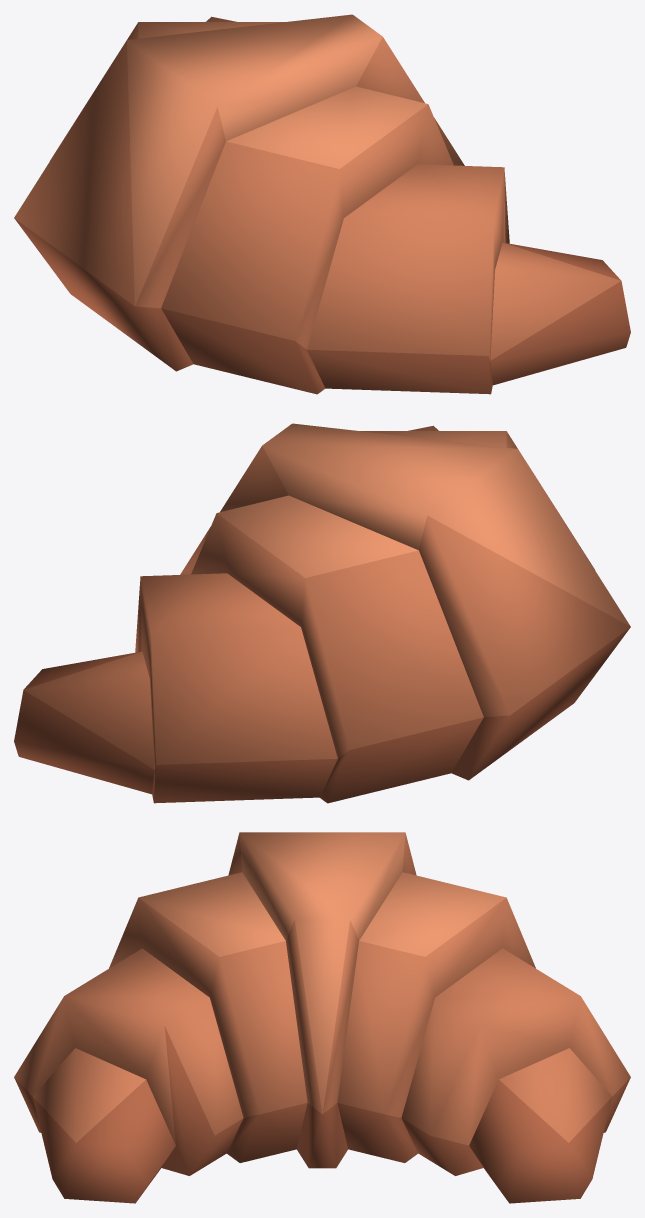
Rendered from croissant.glb.
3 views of the same model, one above another, from view 1: azimuth 30°, elevation 25°; view 2: azimuth 150°, elevation 25°; view 3: azimuth 270°, elevation 25° (orthographic). The views are drawn at different scales.
Parts seen in each view (by area): view 1: croissant; view 2: croissant; view 3: croissant.
Part boxes in pixels (x1,y1,x2,y2): croissant: [14, 14, 630, 394]; croissant: [14, 423, 630, 803]; croissant: [14, 832, 630, 1203].
Bounding box in the file's own units: 0.3461 × 0.1936 × 0.4777.
